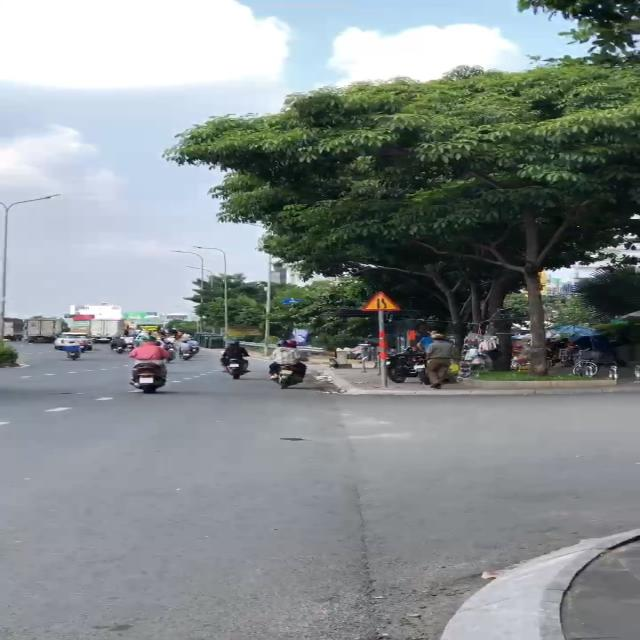Bien bao duong bi thu hep: (355, 285, 408, 312)
